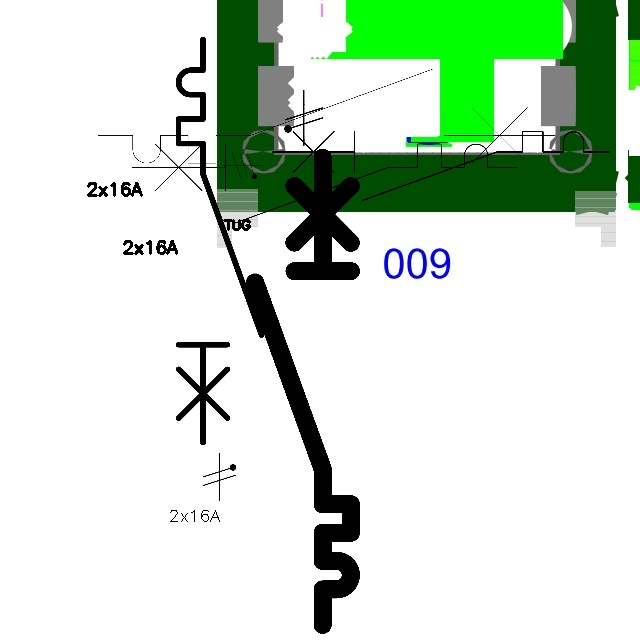interruptor_termomagnetico: (243, 145, 363, 636), (86, 57, 567, 175), (168, 29, 271, 453), (122, 134, 527, 233), (264, 123, 618, 209)
